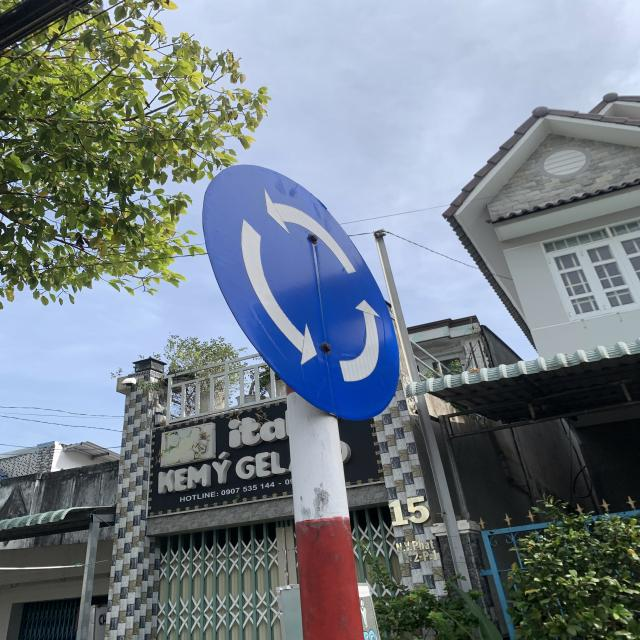Xe_Bus: (201, 164, 402, 422)
